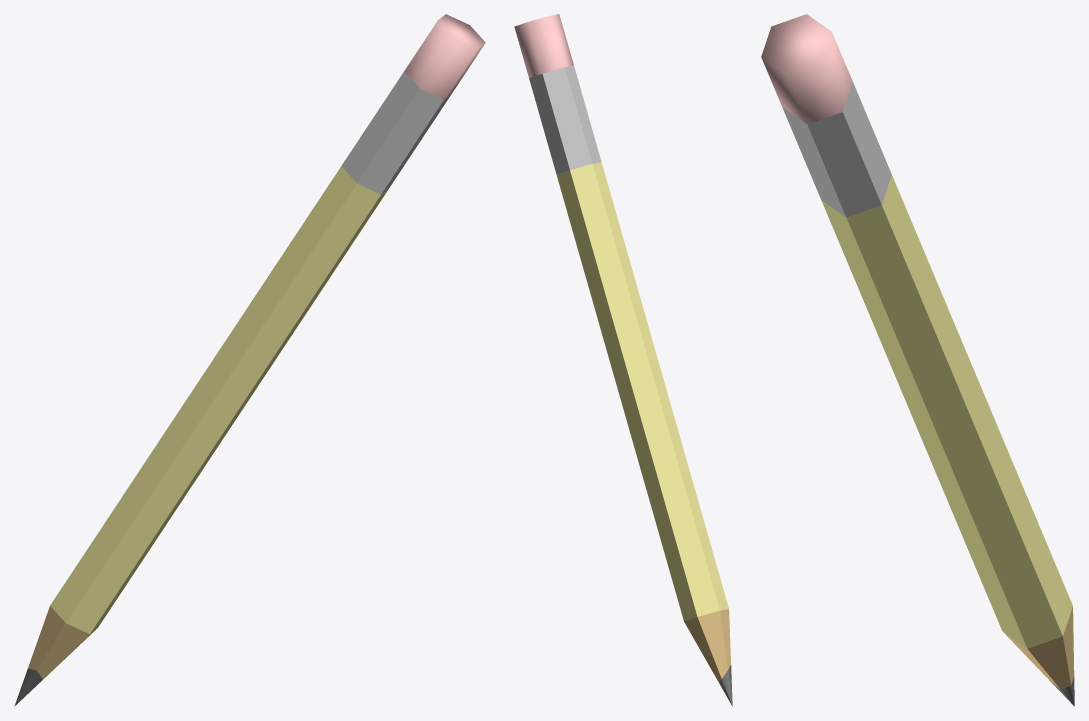
The model's file is pencil(1).dae.
3 views of the same model, side by side, from view 1: azimuth 30°, elevation 25°; view 2: azimuth 150°, elevation 25°; view 3: azimuth 270°, elevation 25° (orthographic). The views are drawn at different scales.
Visible parts, largest first — view 1: Pencil; view 2: Pencil; view 3: Pencil.
Boxes of the visible parts, x1,y1,x2,y2 form: Pencil: (14,14,485,706); Pencil: (514,14,732,706); Pencil: (761,14,1074,706).
Size of the model in its own units: 0.1447 by 0.0822 by 0.2604.
6 materials, 1 textured.
